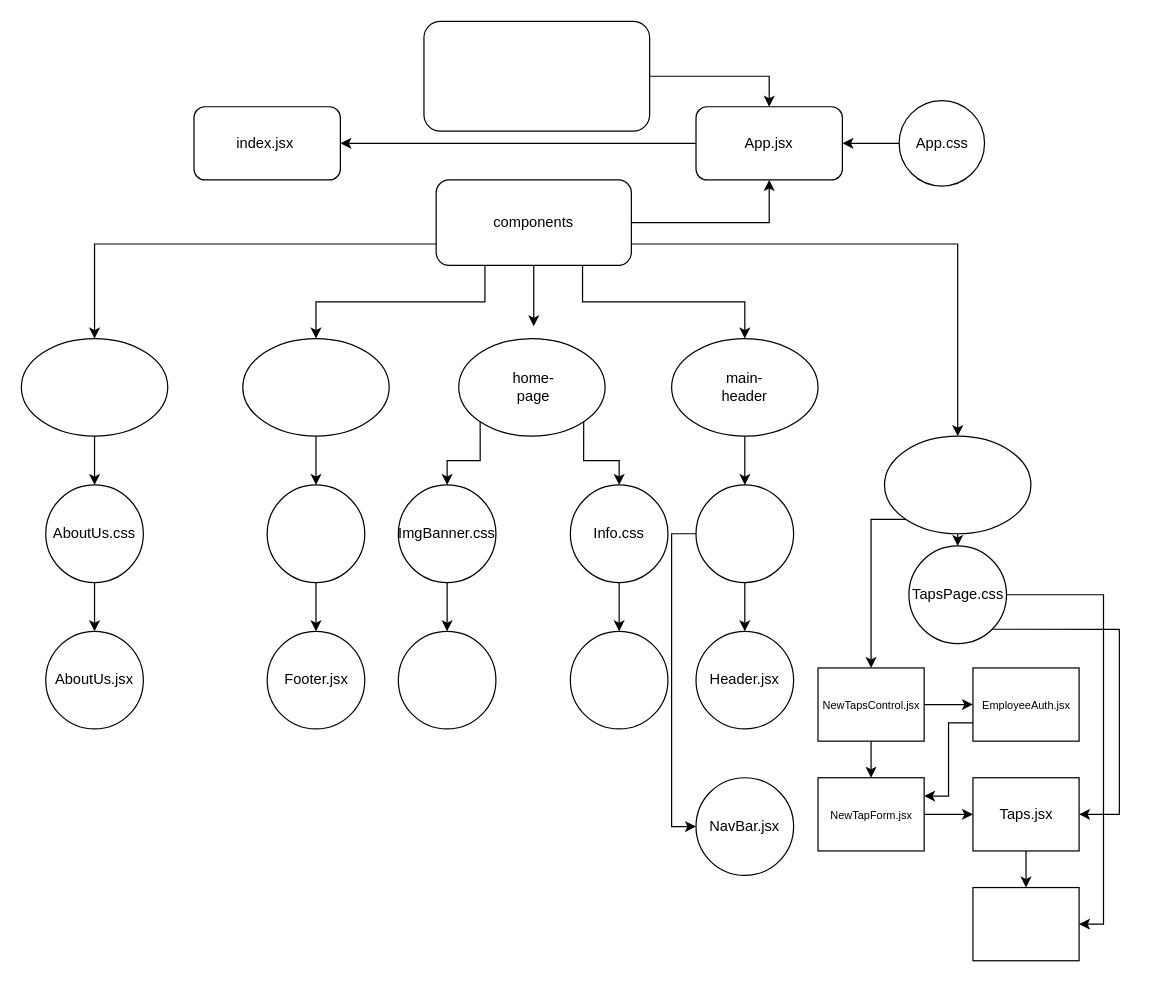
Some shapes in this 1150 by 982 pixel diagram are drawn without their labels. Each missing label, with the centre of its shape:
"about-us" belongs at pixel 94 386.
"footer" belongs at pixel 315 386.
"Footer.css" belongs at pixel 315 533.
"HeaderAndNav.css" belongs at pixel 744 533.
"ImgBanner.jsx" belongs at pixel 446 679.
"Info.jsx" belongs at pixel 618 679.
"src" belongs at pixel 536 75.
"TapList.jsx" belongs at pixel 1025 923.
"taps-page" belongs at pixel 957 484.
